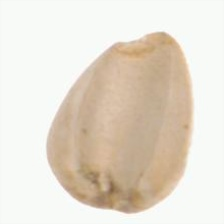L1: (72, 175, 144, 215), (108, 29, 180, 60)
L2: (45, 31, 193, 215)
